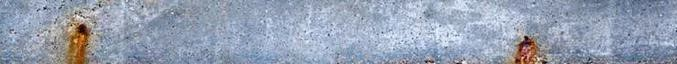Corrosion: (64, 22, 91, 64), (512, 35, 541, 64)
